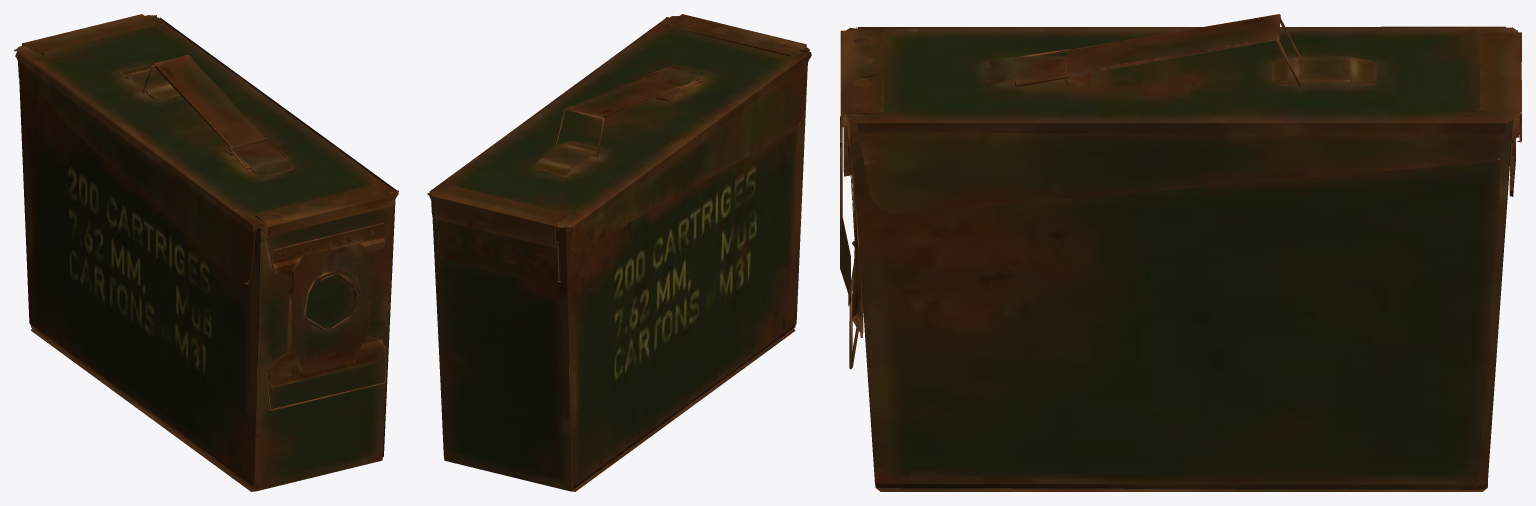
Rendered from ammo_box.glb.
The picture shows the model from 3 angles, left to right: view 1: azimuth 30°, elevation 25°; view 2: azimuth 150°, elevation 25°; view 3: azimuth 270°, elevation 25°; orthographic projection. The views are drawn at different scales.
Visible parts, largest first — view 1: ammo_box, ammo_box_handle, ammo_box_latch; view 2: ammo_box, ammo_box_handle; view 3: ammo_box, ammo_box_handle.
Boxes of the visible parts, x1,y1,x2,y2 form: ammo_box: [14, 14, 398, 491]; ammo_box_handle: [153, 55, 266, 149]; ammo_box_latch: [264, 345, 386, 411]; ammo_box: [427, 14, 811, 491]; ammo_box_handle: [566, 78, 678, 119]; ammo_box: [840, 26, 1521, 491]; ammo_box_handle: [1065, 14, 1280, 75].
Bounding box in the file's own units: 0.0869 × 0.1765 × 0.2577.
Materials: 1 (1 with a texture image).
